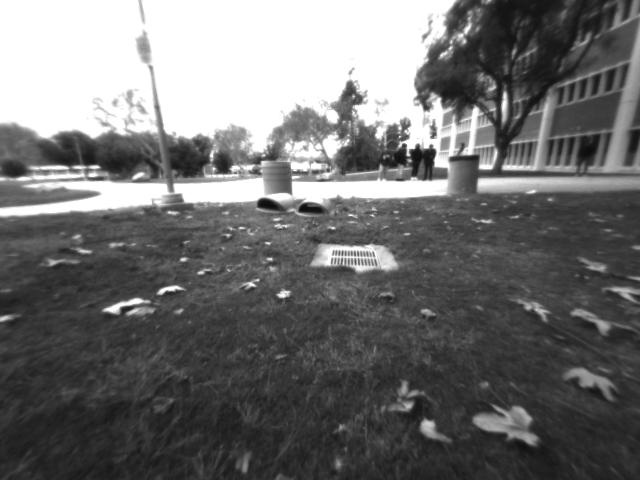trashcan: (444, 147, 485, 197), (253, 151, 296, 195)
